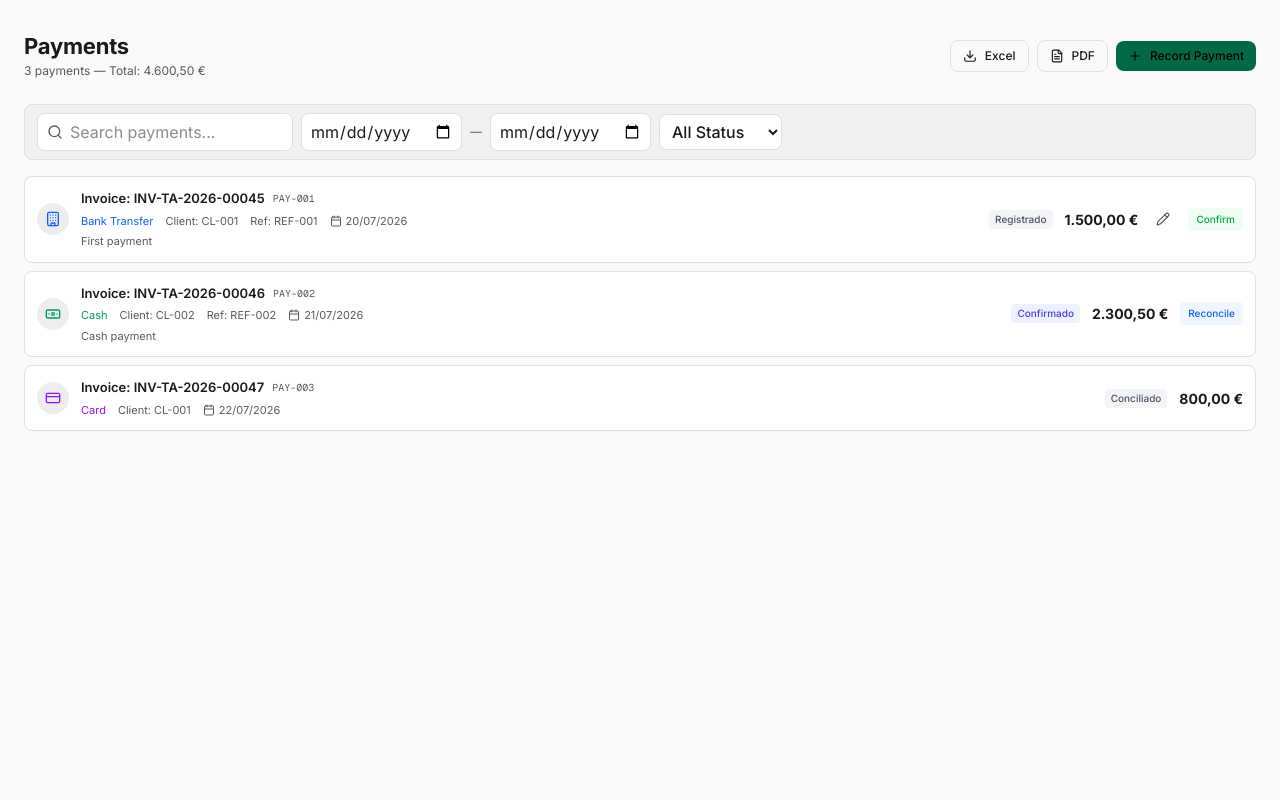
it: PaymentsScreen › disables save button when invoice ID or amount are missing
Expected: the text "Invoice: INV-TA-2026-00045" is shown, [81,189,265,208]
Click the button "Record Payment".
click(1186, 56)  # box [1116,41,1256,71]
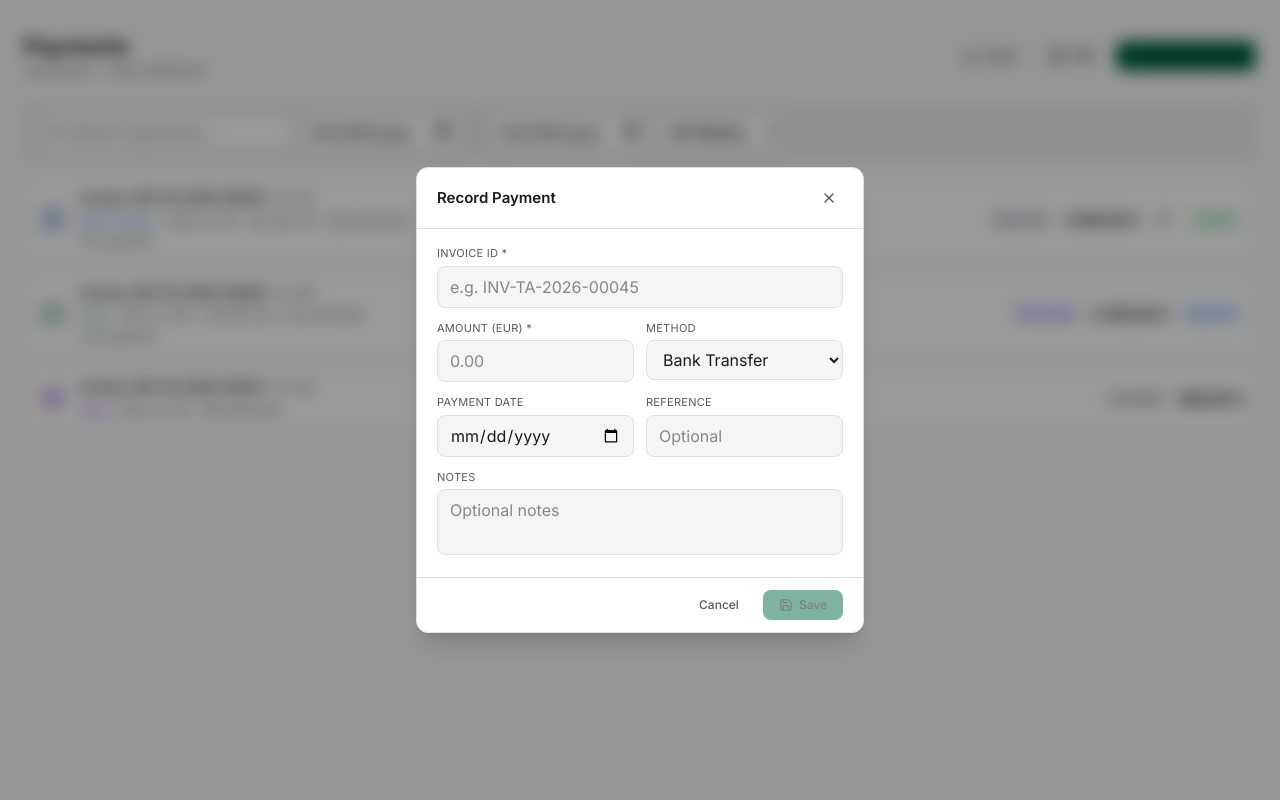
Expected: the text "Record Payment" is shown 2 times, [1150,47,1244,65]; [437,187,556,209]
Expected: the button "Save" is disabled, [763,590,843,620]
